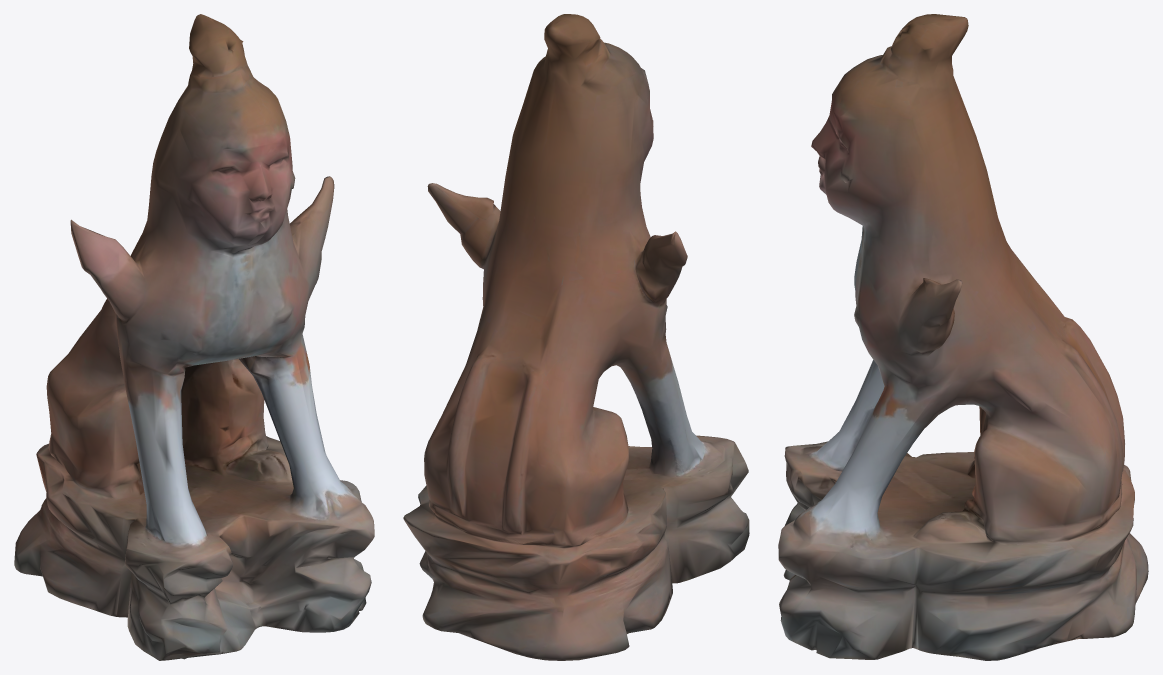
3 views of the same model, side by side, from view 1: azimuth 30°, elevation 25°; view 2: azimuth 150°, elevation 25°; view 3: azimuth 270°, elevation 25° (orthographic). The views are drawn at different scales.
Visible parts, largest first — view 1: node_0; view 2: node_0; view 3: node_0.
Part boxes in pixels (x1,y1,x2,y2): node_0: [14, 14, 374, 660]; node_0: [403, 14, 749, 660]; node_0: [778, 14, 1148, 660].
Size of the model in its own units: 0.4864 by 1.01 by 0.5768.
1 material, 1 textured.
